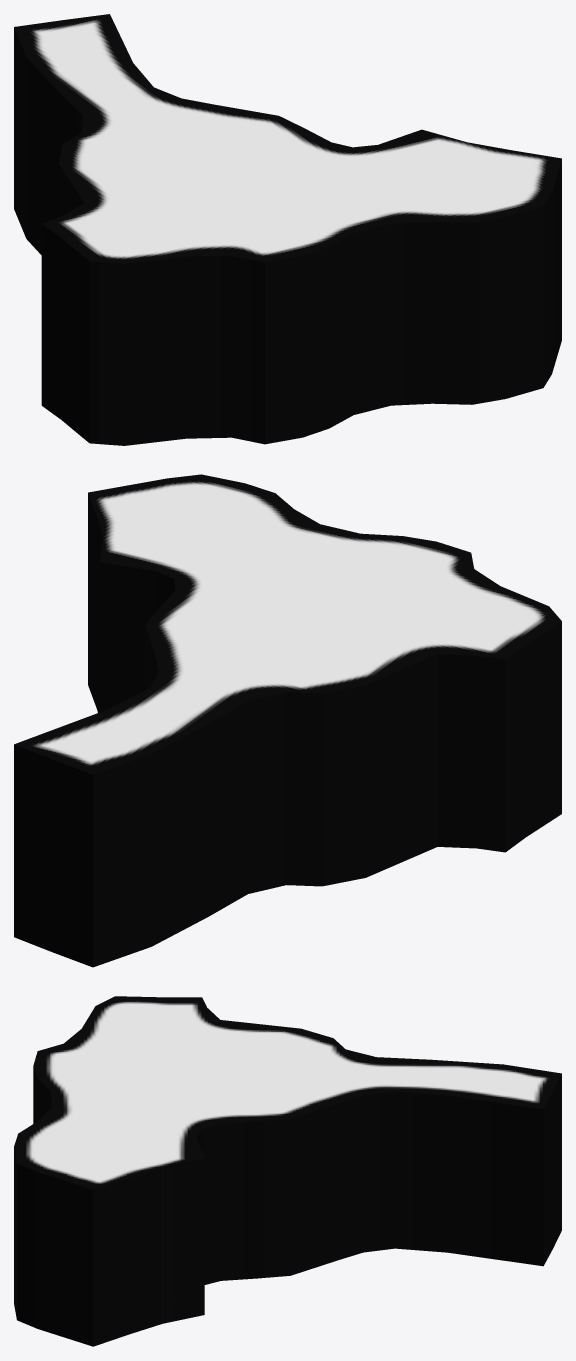
The picture shows the model from 3 angles, top to bottom: view 1: azimuth 30°, elevation 25°; view 2: azimuth 150°, elevation 25°; view 3: azimuth 270°, elevation 25°; orthographic projection. The views are drawn at different scales.
Visible parts, largest first — view 1: polySurface35; view 2: polySurface35; view 3: polySurface35.
Boxes of the visible parts, box(x1,y1,x2,y2) form: polySurface35: box(14, 14, 561, 445); polySurface35: box(14, 474, 561, 967); polySurface35: box(14, 996, 561, 1346).
Size of the model in its own units: 1.32 by 0.5 by 1.58.
